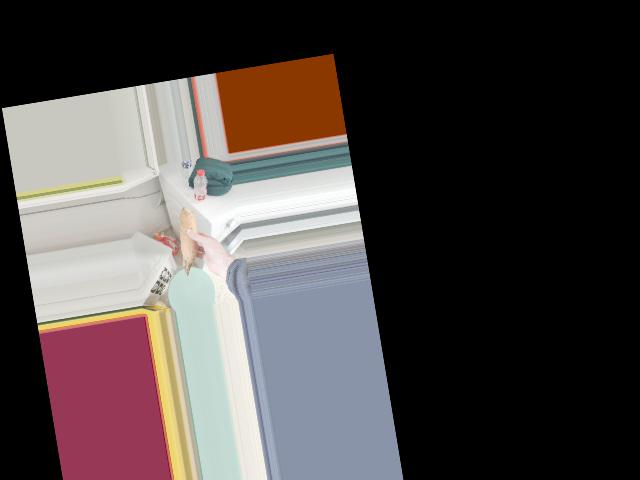sweet_potato: (174, 210, 204, 278)
